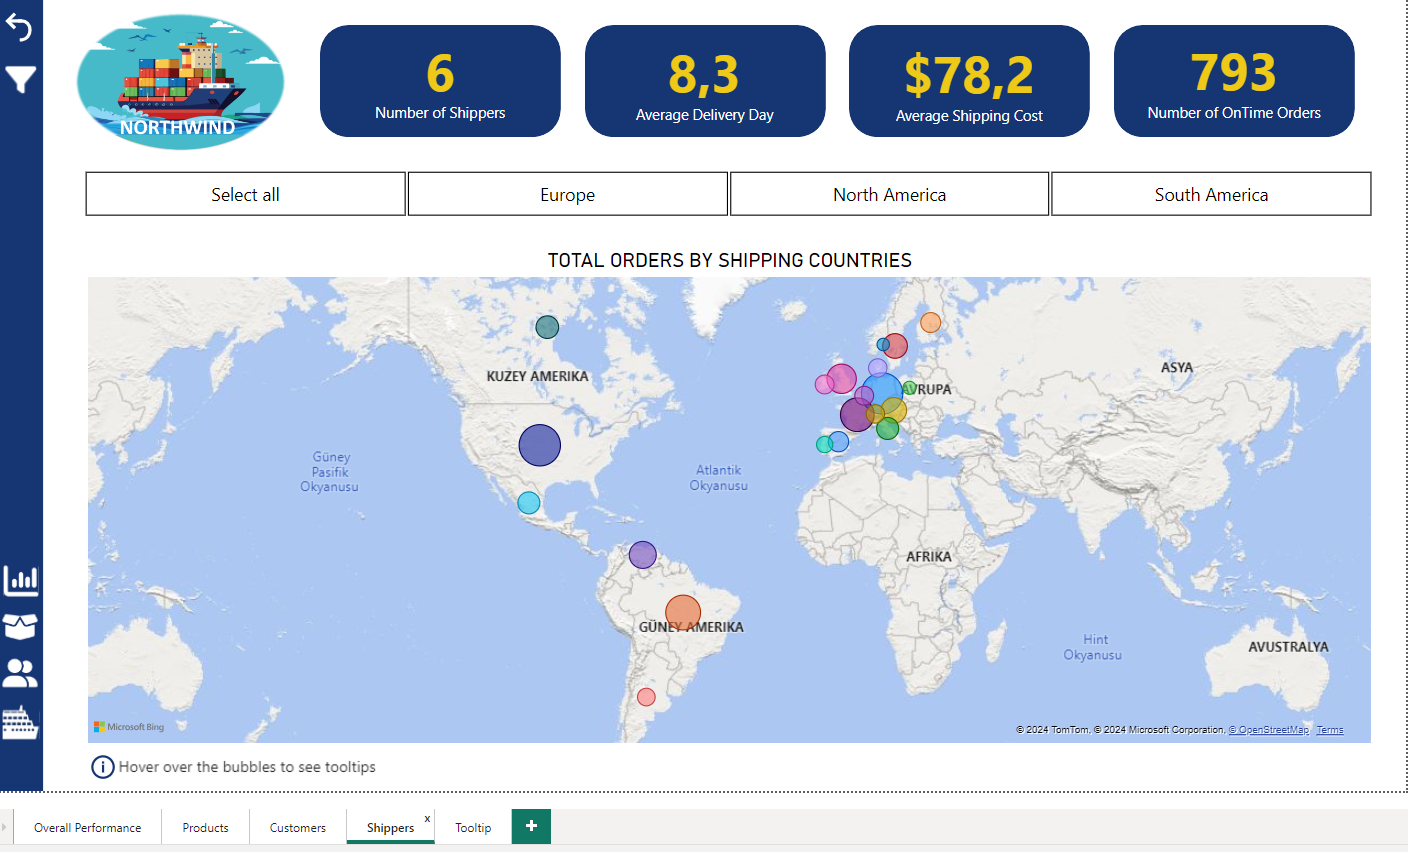

The page's visual inventory and layout, read from the dashboard file:
{"tool":"powerbi","page":{"name":"Shippers","canvas":[1280,720],"ordinal":3},"visuals":[{"type":"shape","title":"Left Nav Background","box":[0,0,41,720],"z":0},{"type":"group","id":"g1","title":"KPI Cards","box":[292.7,23.7,941,102],"z":0,"group":"g3"},{"type":"shape","box":[292.7,23.7,219,102],"z":0,"group":"g1"},{"type":"card","fields":{"Values":["ölçüler.Number of Shippers"]},"box":[295.7,23.7,213,98],"z":0,"group":"g2"},{"type":"actionButton","box":[0,593.1,41,40],"z":0,"group":"g4"},{"type":"group","id":"g2","title":"KPI Values","box":[295.7,23.7,935,99.3],"z":1000,"group":"g3"},{"type":"shape","box":[533.4,23.7,219,102],"z":1000,"group":"g1"},{"type":"card","fields":{"Values":["ölçüler.Average Delivery Day"]},"box":[536.7,25.7,212,97],"z":1000,"group":"g2"},{"type":"actionButton","box":[3,55,39,36],"z":1000},{"type":"actionButton","box":[0,551.1,41,40],"z":1000,"group":"g4"},{"type":"actionButton","box":[0.5,7,41,36],"z":2000},{"type":"shape","box":[774,23.7,219,102],"z":2000,"group":"g1"},{"type":"card","fields":{"Values":["ölçüler.OnTimeOrders"]},"box":[1017.7,23.7,213,97],"z":2000,"group":"g2"},{"type":"actionButton","box":[0,635,42,46],"z":2000,"group":"g4"},{"type":"group","id":"g3","title":"KPIs","box":[292.7,23.7,941,102],"z":3000},{"type":"shape","box":[1014.7,23.7,219,102],"z":3000,"group":"g1"},{"type":"card","fields":{"Values":["ölçüler.Average Shipping Cost"]},"box":[777,26,213,97],"z":3000,"group":"g2"},{"type":"actionButton","box":[1,509.2,41,40],"z":3000,"group":"g4"},{"type":"image","box":[39,7,254,136],"z":4000},{"type":"map","title":"TOTAL ORDERS BY SHIPPING COUNTRIES","fields":{"Category":["continents.countries"],"Size":["ölçüler.Total Orders"],"Series":["continents.countries"]},"box":[77,226,1176,455],"z":5000},{"type":"slicer","fields":{"Values":["continents.continents"]},"box":[54,150,1219,54],"z":6000},{"type":"group","id":"g4","title":"Group 1","box":[0,509.2,42,171.8],"z":7000},{"type":"actionButton","box":[80,683,35,31],"z":9000},{"type":"image","box":[104,683,248,31],"z":10000}]}

Visuals, with their boxes on the page's 1280x720 design canvas (x1, y1, x2, y2). These are canvas units, not pixel positions in the 1408x852 screenshot, which may show the page scaled, cropped or inside an application window:
"Left Nav Background" shape: x1=0, y1=0, x2=41, y2=720
"KPI Cards" group: x1=293, y1=24, x2=1234, y2=126
shape: x1=293, y1=24, x2=512, y2=126
card - ölçüler.Number of Shippers: x1=296, y1=24, x2=509, y2=122
actionButton: x1=0, y1=593, x2=41, y2=633
"KPI Values" group: x1=296, y1=24, x2=1231, y2=123
shape: x1=533, y1=24, x2=752, y2=126
card - ölçüler.Average Delivery Day: x1=537, y1=26, x2=749, y2=123
actionButton: x1=3, y1=55, x2=42, y2=91
actionButton: x1=0, y1=551, x2=41, y2=591
actionButton: x1=0, y1=7, x2=42, y2=43
shape: x1=774, y1=24, x2=993, y2=126
card - ölçüler.OnTimeOrders: x1=1018, y1=24, x2=1231, y2=121
actionButton: x1=0, y1=635, x2=42, y2=681
"KPIs" group: x1=293, y1=24, x2=1234, y2=126
shape: x1=1015, y1=24, x2=1234, y2=126
card - ölçüler.Average Shipping Cost: x1=777, y1=26, x2=990, y2=123
actionButton: x1=1, y1=509, x2=42, y2=549
image: x1=39, y1=7, x2=293, y2=143
"TOTAL ORDERS BY SHIPPING COUNTRIES" map: x1=77, y1=226, x2=1253, y2=681
slicer - continents.continents: x1=54, y1=150, x2=1273, y2=204
"Group 1" group: x1=0, y1=509, x2=42, y2=681
actionButton: x1=80, y1=683, x2=115, y2=714
image: x1=104, y1=683, x2=352, y2=714
